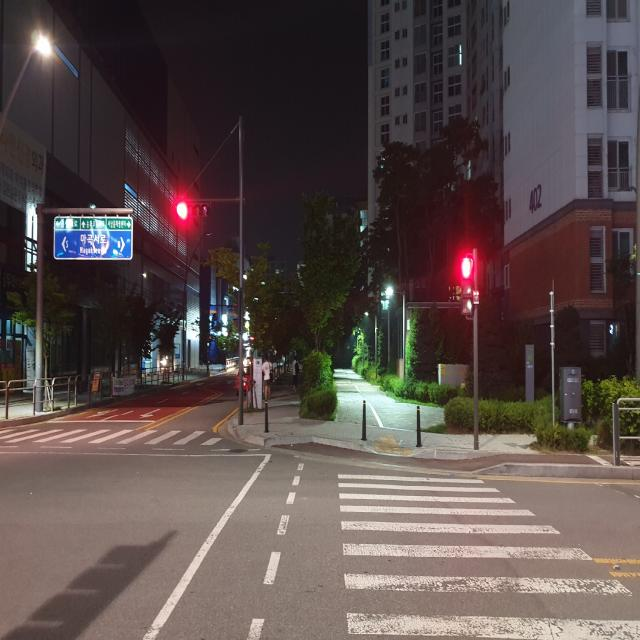빨간불: (458, 255, 478, 320)
횡단보도: (336, 471, 639, 640)
